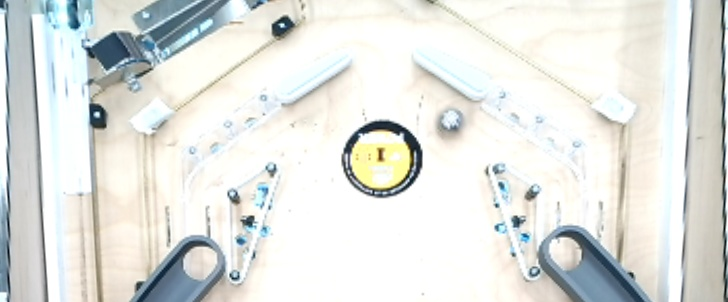ball: (433, 106, 467, 143)
flipper-left: (408, 41, 495, 104)
flipper-right: (268, 49, 356, 107)
